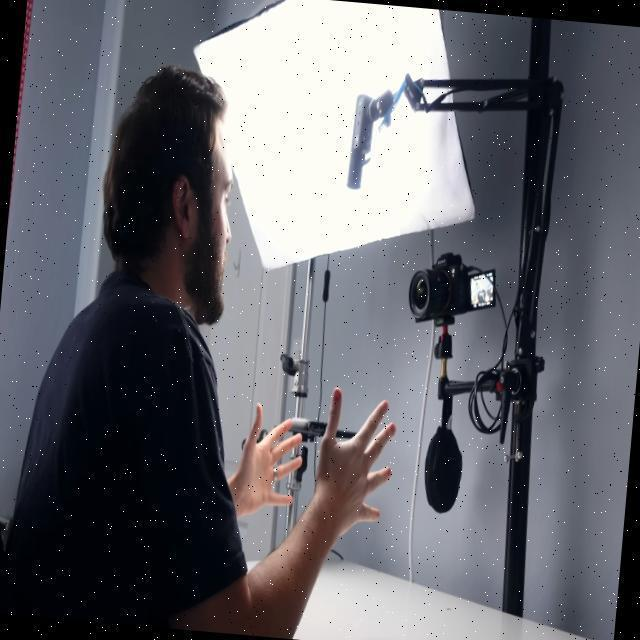person: (3, 56, 424, 640)
